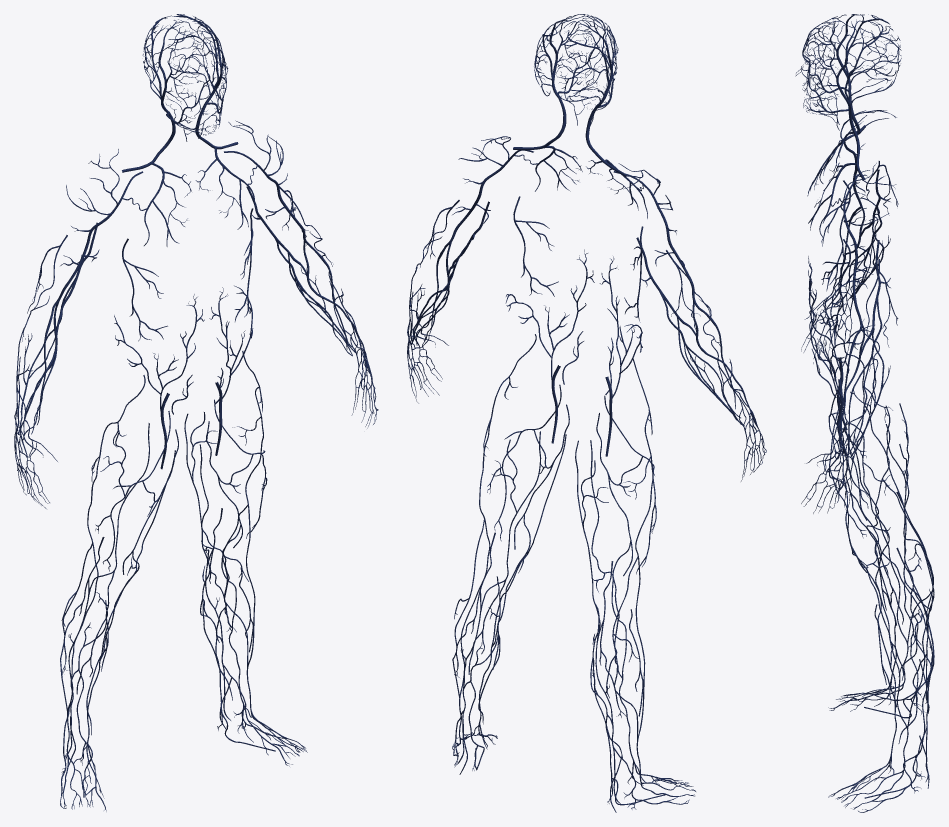
File: vessels-lite.glb
The picture shows the model from 3 angles, left to right: view 1: azimuth 30°, elevation 25°; view 2: azimuth 150°, elevation 25°; view 3: azimuth 270°, elevation 25°; orthographic projection. The views are drawn at different scales.
Visible parts, largest first — view 1: Veins_r, Veins_l; view 2: Veins_r, Veins_l; view 3: Veins_l, Veins_r.
Boxes of the visible parts, box(x1,y1,x2,y2) form: Veins_r: box(14, 16, 212, 811); Veins_l: box(166, 14, 378, 766); Veins_r: box(557, 15, 766, 812); Veins_l: box(407, 14, 602, 774); Veins_l: box(795, 19, 934, 812); Veins_r: box(796, 14, 934, 718).
Size of the model in its own units: 0.8532 by 1.79 by 0.3043.
